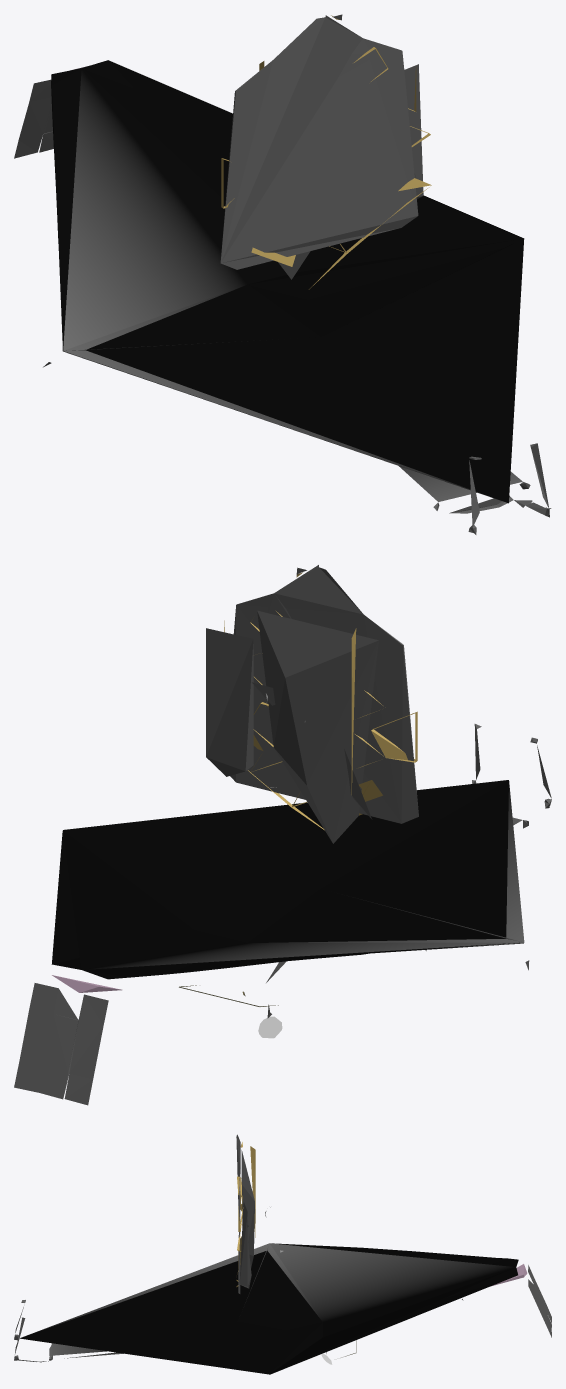
3 renders of one model, top to bottom at view 1: azimuth 30°, elevation 25°; view 2: azimuth 150°, elevation 25°; view 3: azimuth 270°, elevation 25°, orthographic. The views are drawn at different scales.
Visible parts, largest first — view 1: Object_8; view 2: Object_8; view 3: Object_8.
Part boxes in pixels (box(x1,y1,x2,y2)): Object_8: box(14, 14, 551, 534); Object_8: box(14, 565, 551, 1105); Object_8: box(14, 1134, 551, 1374).
Size of the model in its own units: 19.71 by 16.16 by 33.31.
